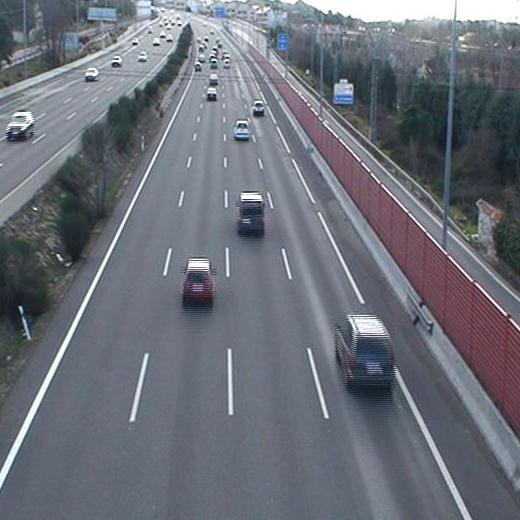car: (334, 314, 395, 389), (181, 260, 217, 303), (233, 119, 252, 140), (252, 100, 265, 116), (207, 87, 217, 102), (208, 73, 218, 85), (194, 63, 202, 72)
van: (237, 191, 266, 237)
